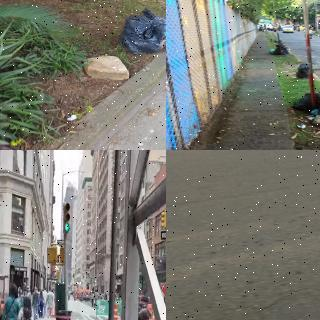Garbage: (118, 5, 166, 58), (293, 89, 320, 109), (296, 61, 311, 79), (274, 42, 291, 55), (310, 108, 319, 115), (269, 48, 276, 54)
